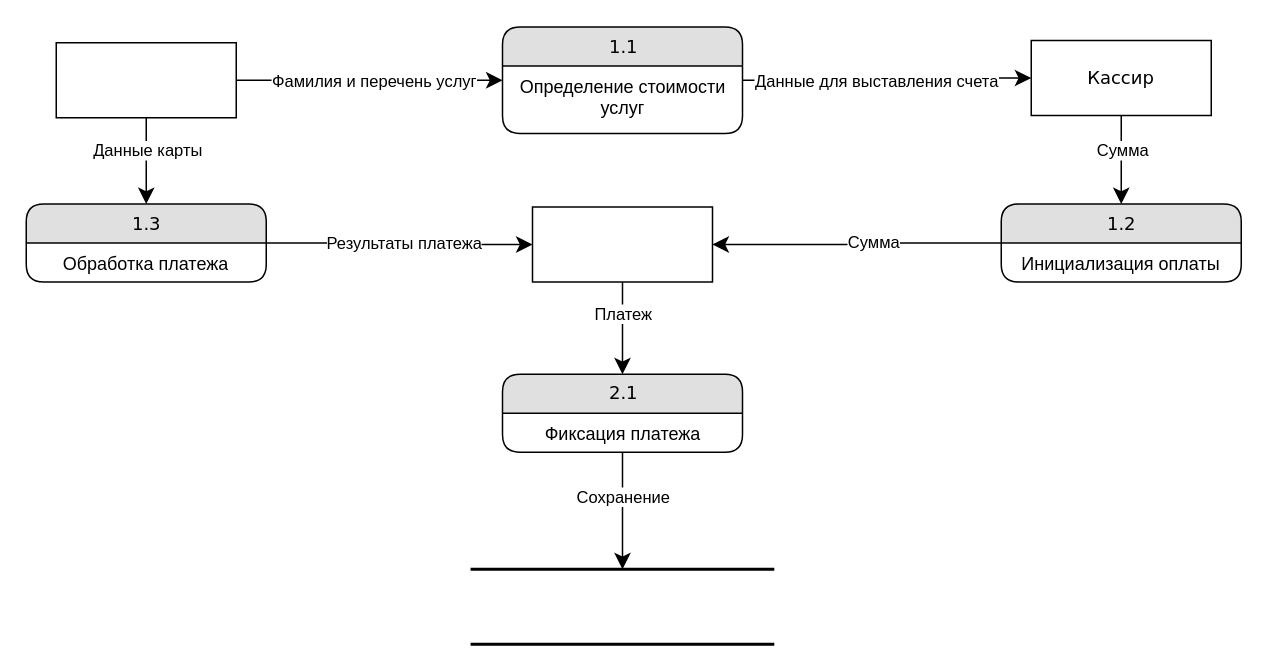
Some shapes in this 1268 by 671 pixel diagram are drawn without their labels. Each missing label, with the centre of its shape:
"1C Бухгалтерия предприятия" goes at point (621, 606).
"ККМ" goes at point (621, 244).
"Пациент" goes at point (145, 79).
